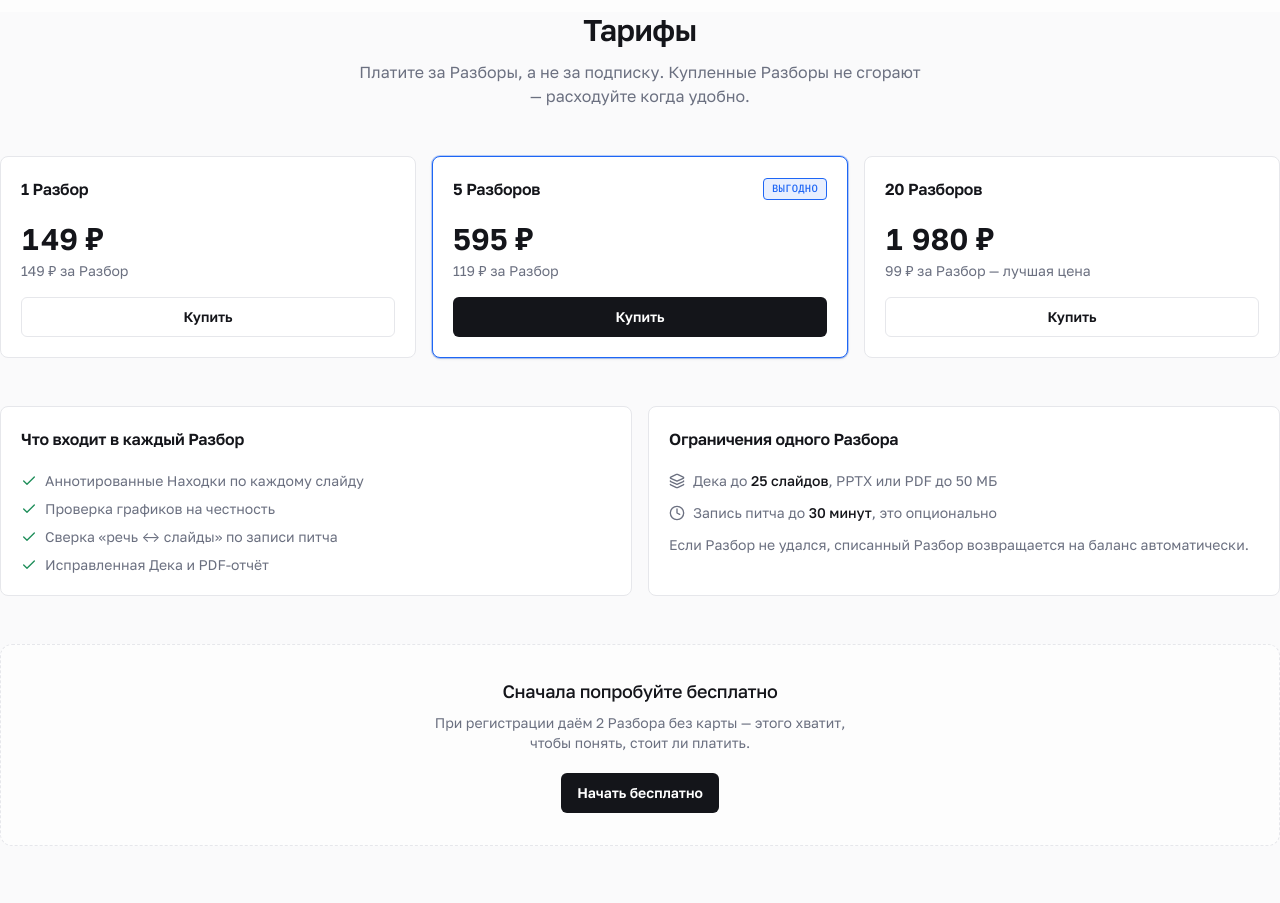
Test: PricingPage › explains that payment is not wired up instead of pretending to charge
The image size is (1280, 903).
Expected: the text "Оплата пока не подключена" is not shown
Click the 1st button "Купить" at (208, 317), box [21,297,395,337]
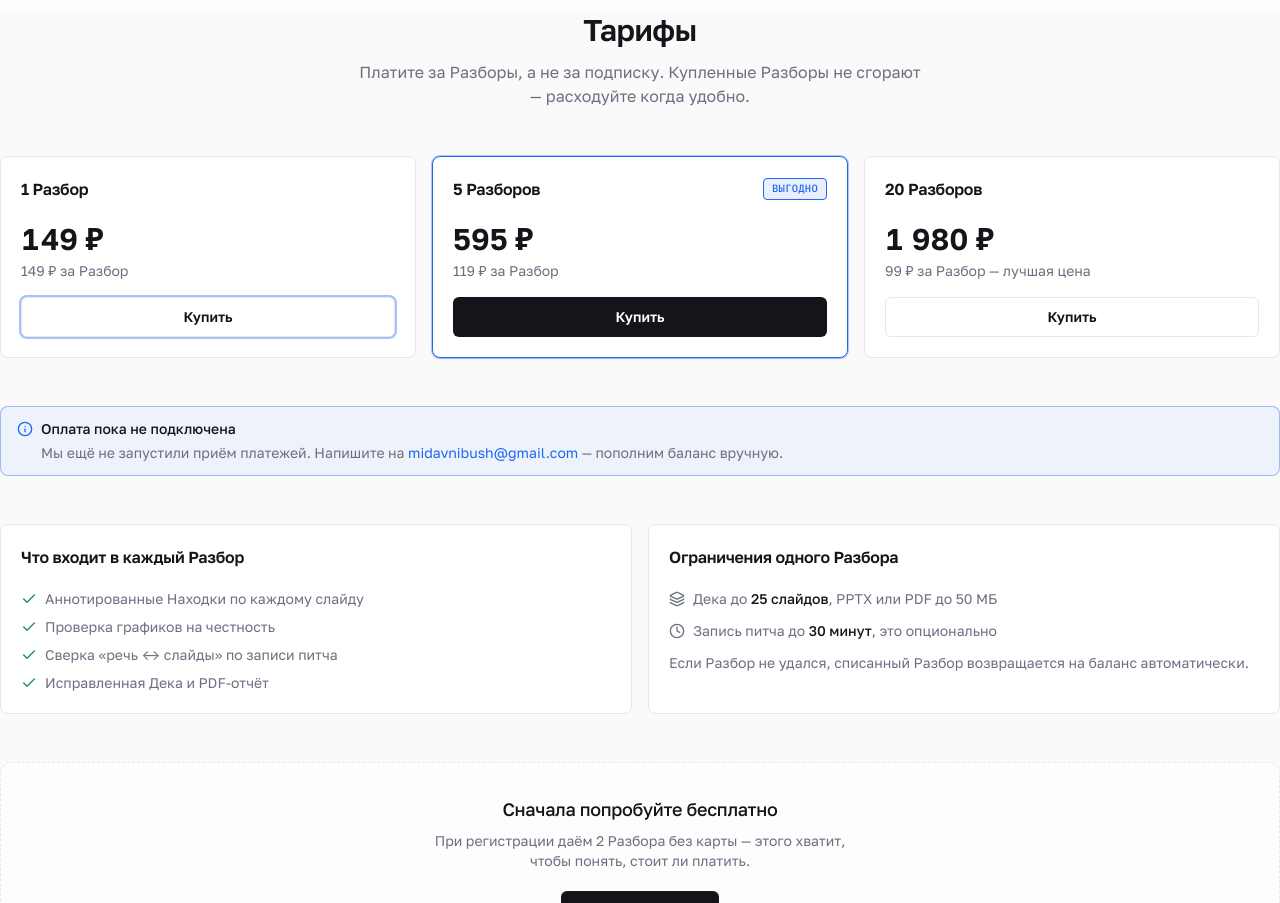
Expected: the message shows "Оплата пока не подключена", [41,420,236,437]
Expected: the link "midavnibush@gmail.com" is shown, [408,444,578,461]
